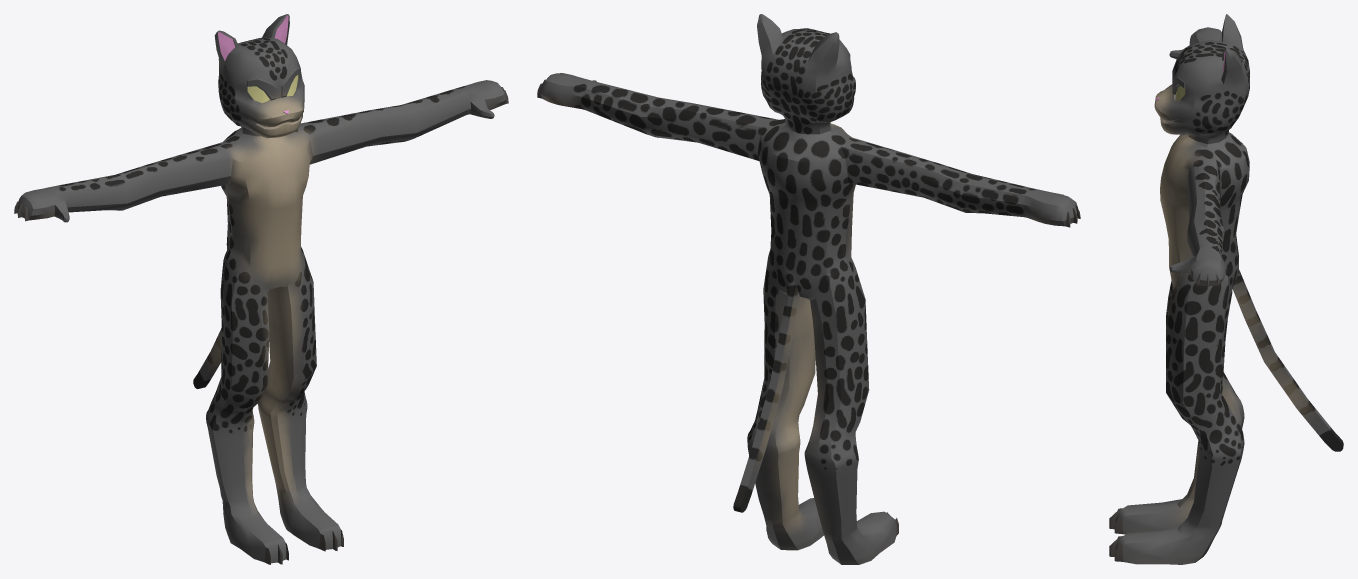
The model's file is Cat_Enemy_Final_02.fbx.
3 renders of one model, left to right at view 1: azimuth 30°, elevation 25°; view 2: azimuth 150°, elevation 25°; view 3: azimuth 270°, elevation 25°, orthographic. The views are drawn at different scales.
Visible parts, largest first — view 1: pCube13; view 2: pCube13; view 3: pCube13.
Boxes of the visible parts, left/top/right/bottom form: pCube13: left=14, top=14, right=508, bottom=564; pCube13: left=537, top=14, right=1080, bottom=564; pCube13: left=1109, top=14, right=1343, bottom=564.
Size of the model in its own units: 9.79 by 9.46 by 3.92.
1 material, 1 textured.
